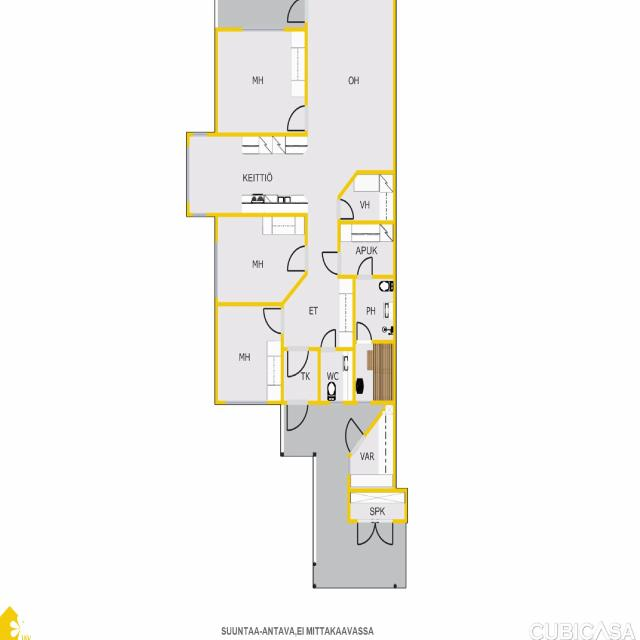door: (336, 416, 366, 455), (287, 347, 309, 379), (287, 400, 308, 432), (262, 308, 284, 333), (286, 246, 308, 271), (286, 106, 308, 130), (286, 0, 308, 22), (320, 252, 340, 274), (357, 320, 372, 344), (338, 199, 356, 219), (321, 327, 336, 351), (358, 254, 372, 278)
